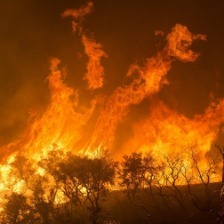incendio: (1, 39, 221, 199)
